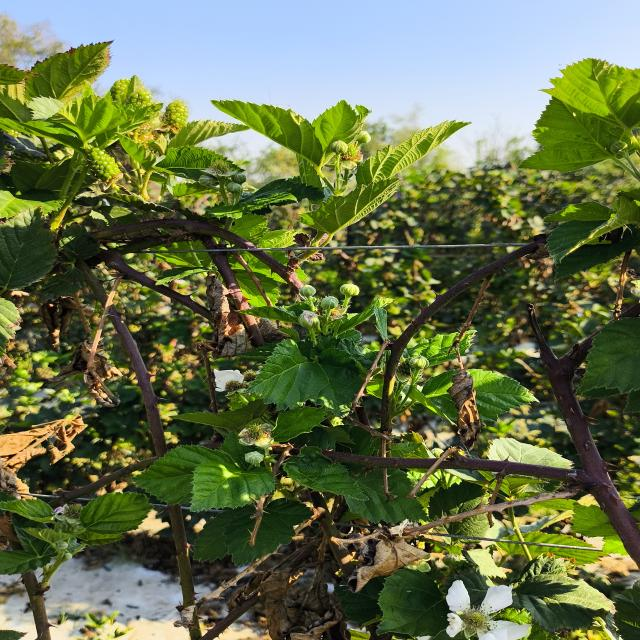boton: (298, 311, 319, 328), (245, 451, 265, 465), (320, 296, 338, 310), (340, 283, 359, 296), (331, 140, 348, 154), (299, 285, 316, 297), (357, 131, 371, 143)
